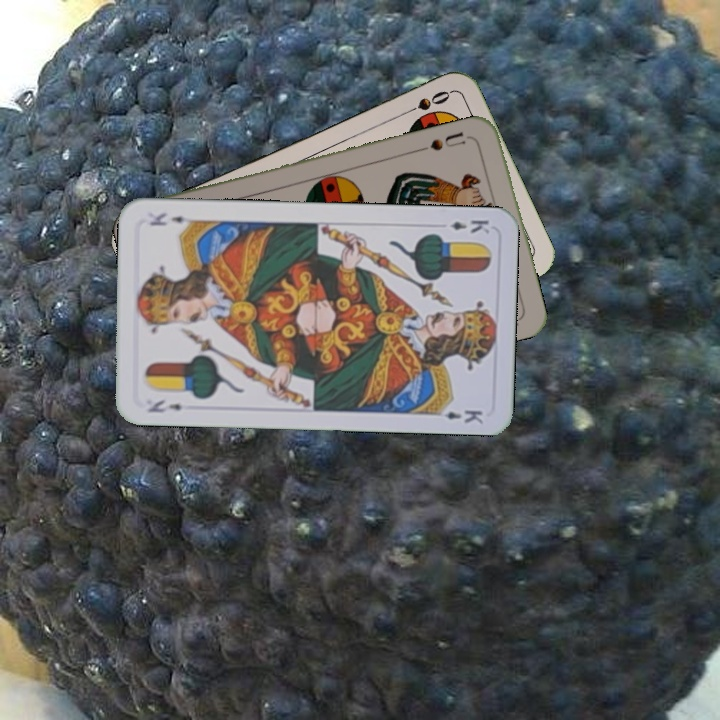EK: (446, 215, 492, 236), (144, 395, 185, 415)
SO: (397, 86, 453, 119)
SU: (417, 128, 476, 154)
